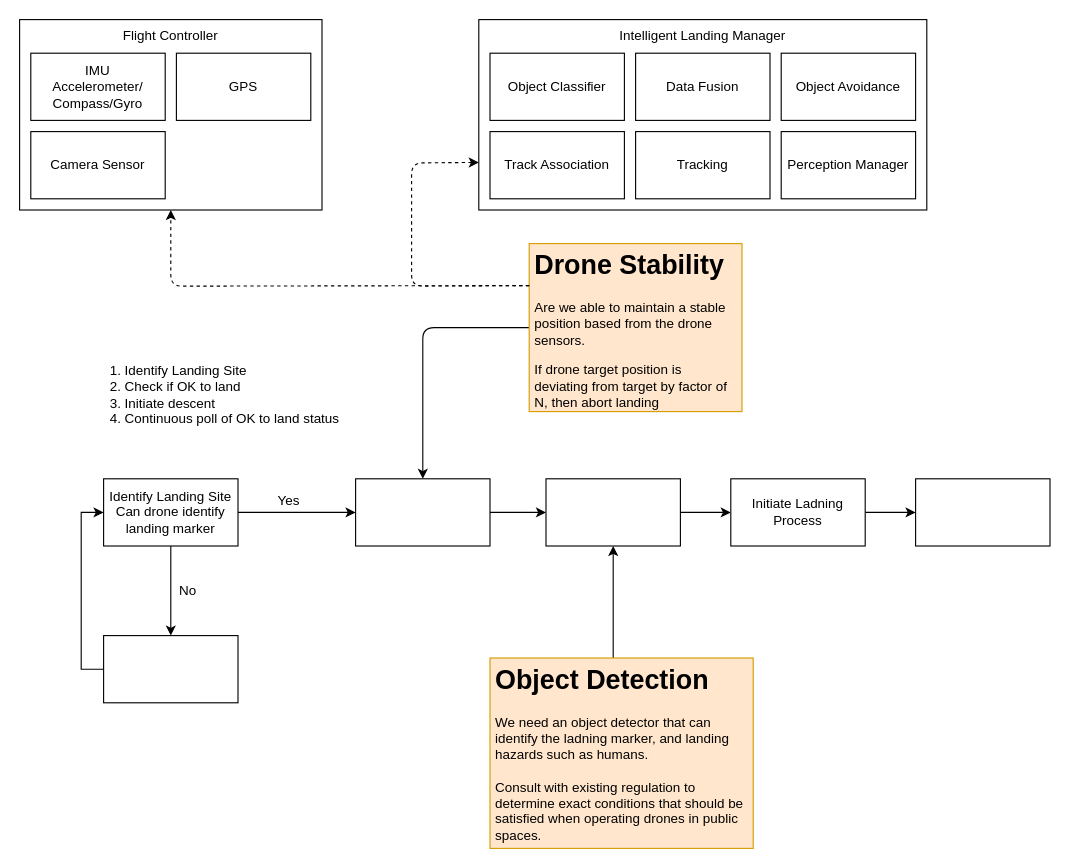
The diagram is 1070 pixels wide and 868 high, and some of its shapes have lost their labels. The shapes that lost their labels are listed below. From the top down, each one's centre as x and y in pixels, then its label:
the point at 422,512: Assess Drone Stability
the point at 612,512: Check that the landing site is clear of objects to avoid i.e. humans
the point at 982,512: Check perception system status
the point at 170,668: Circle area for (n) minutes
